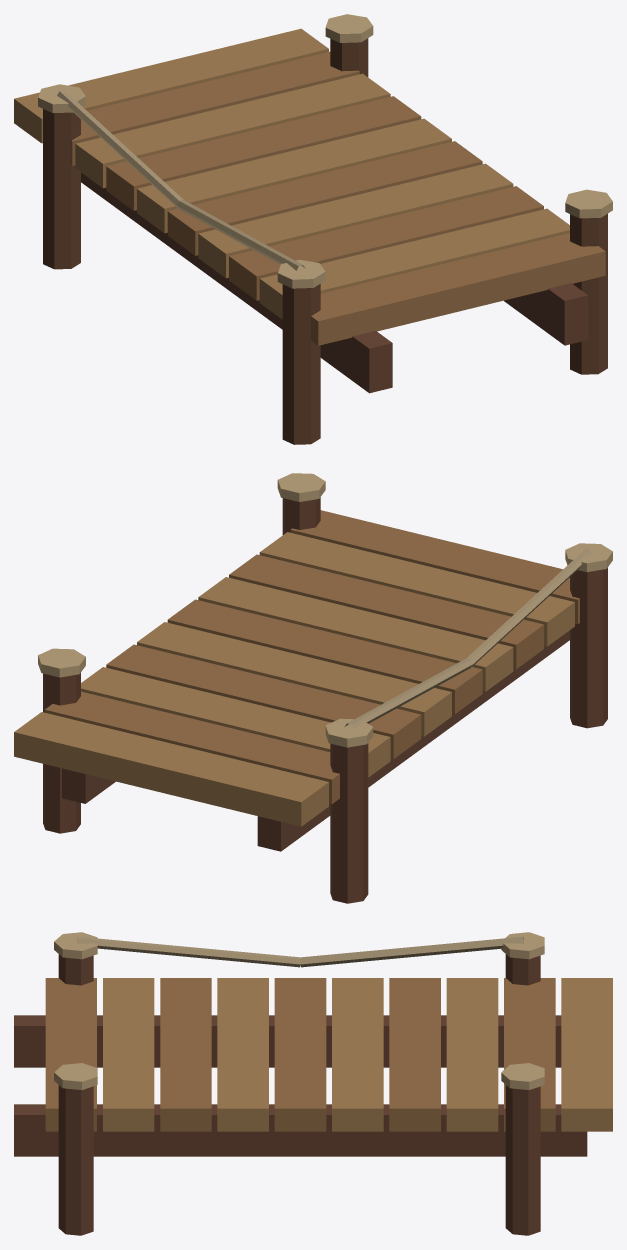
The picture shows the model from 3 angles, top to bottom: view 1: azimuth 30°, elevation 25°; view 2: azimuth 150°, elevation 25°; view 3: azimuth 270°, elevation 25°; orthographic projection. The views are drawn at different scales.
Visible parts, largest first — view 1: H03_绳栏码头; view 2: H03_绳栏码头; view 3: H03_绳栏码头.
Part boxes in pixels (x1,y1,x2,y2): H03_绳栏码头: (14,14,612,444); H03_绳栏码头: (14,473,612,903); H03_绳栏码头: (14,932,612,1235).
Size of the model in its own units: 1.54 by 0.769 by 2.61.
